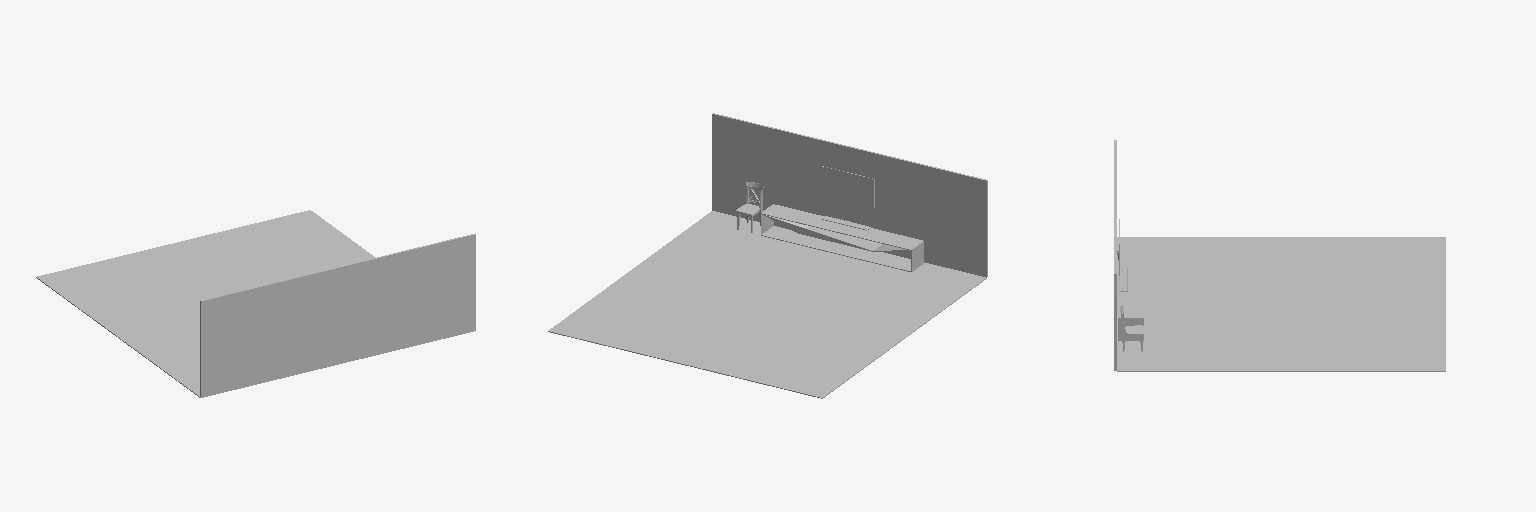
File: room 1.obj
3 views of the same model, side by side, from view 1: azimuth 30°, elevation 25°; view 2: azimuth 150°, elevation 25°; view 3: azimuth 270°, elevation 25° (orthographic).
Parts seen in each view (by area): view 1: Mesh6 wall1 Model, Mesh7 floor1 Model; view 2: Mesh7 floor1 Model, Mesh6 wall1 Model, Mesh4 table1 Model, Mesh1 tv1 Model, Mesh3 Ikea_Dining_Chair1 Component1 Model; view 3: Mesh7 floor1 Model, Mesh4 table1 Model, Mesh6 wall1 Model.
Part boxes in pixels (left/top/right/bottom): Mesh6 wall1 Model: left=200, top=234, right=475, bottom=397; Mesh7 floor1 Model: left=36, top=210, right=375, bottom=397; Mesh7 floor1 Model: left=548, top=211, right=986, bottom=398; Mesh6 wall1 Model: left=712, top=113, right=987, bottom=277; Mesh4 table1 Model: left=761, top=204, right=923, bottom=271; Mesh1 tv1 Model: left=821, top=166, right=872, bottom=210; Mesh3 Ikea_Dining_Chair1 Component1 Model: left=736, top=182, right=763, bottom=232; Mesh7 floor1 Model: left=1117, top=237, right=1445, bottom=371; Mesh4 table1 Model: left=1118, top=245, right=1143, bottom=340; Mesh6 wall1 Model: left=1114, top=140, right=1116, bottom=370.
Bounding box in the file's own units: 380 × 129 × 396.